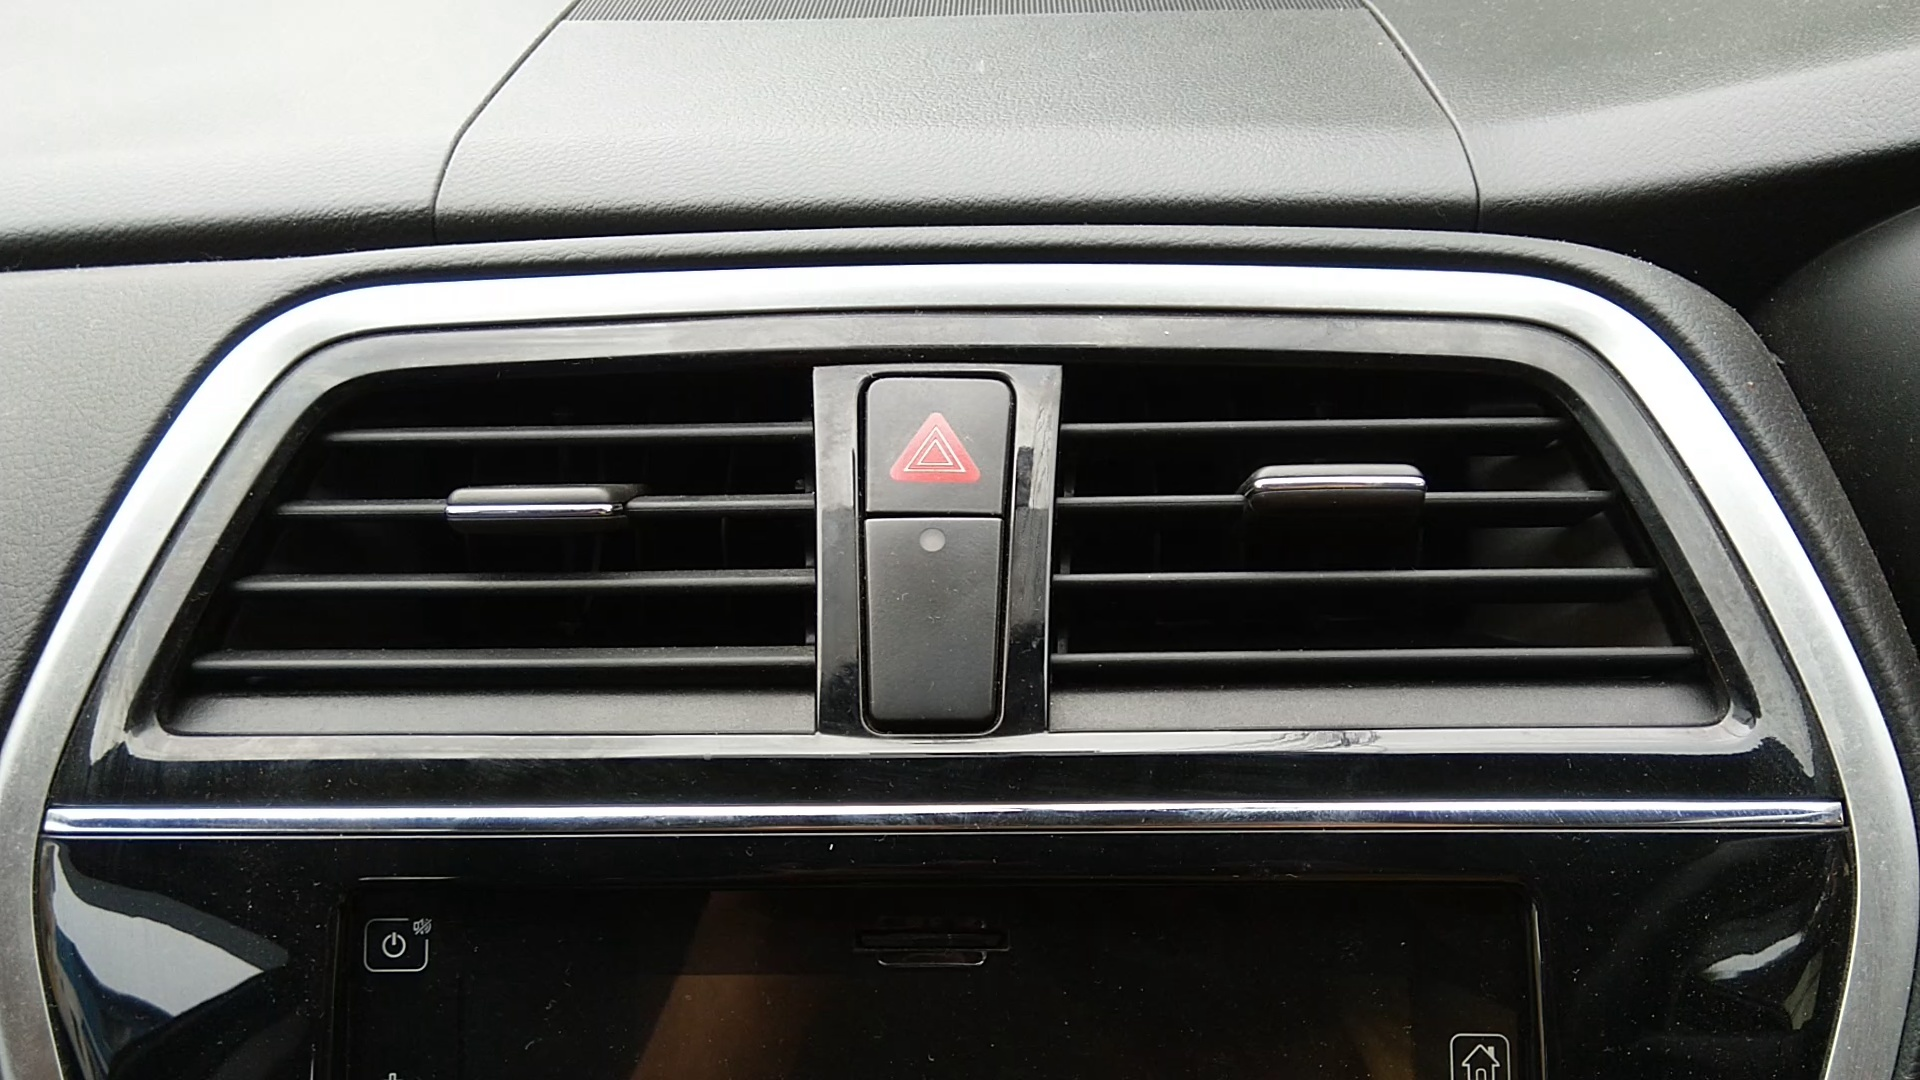parking_button: (881, 386, 989, 497)
